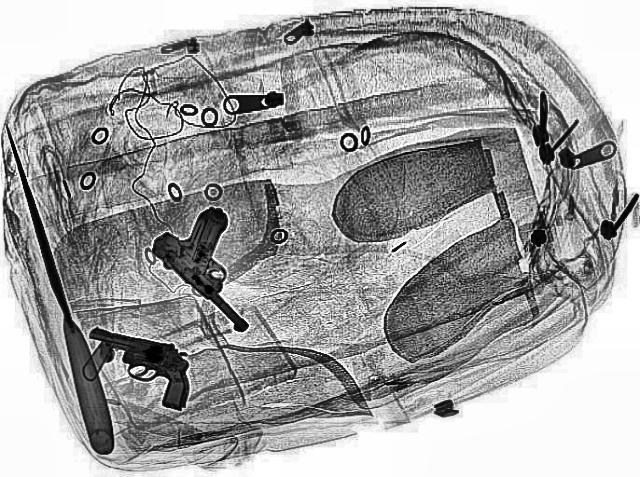Gun: (136, 202, 314, 332), (62, 322, 212, 412)
Knife: (1, 122, 119, 456)
